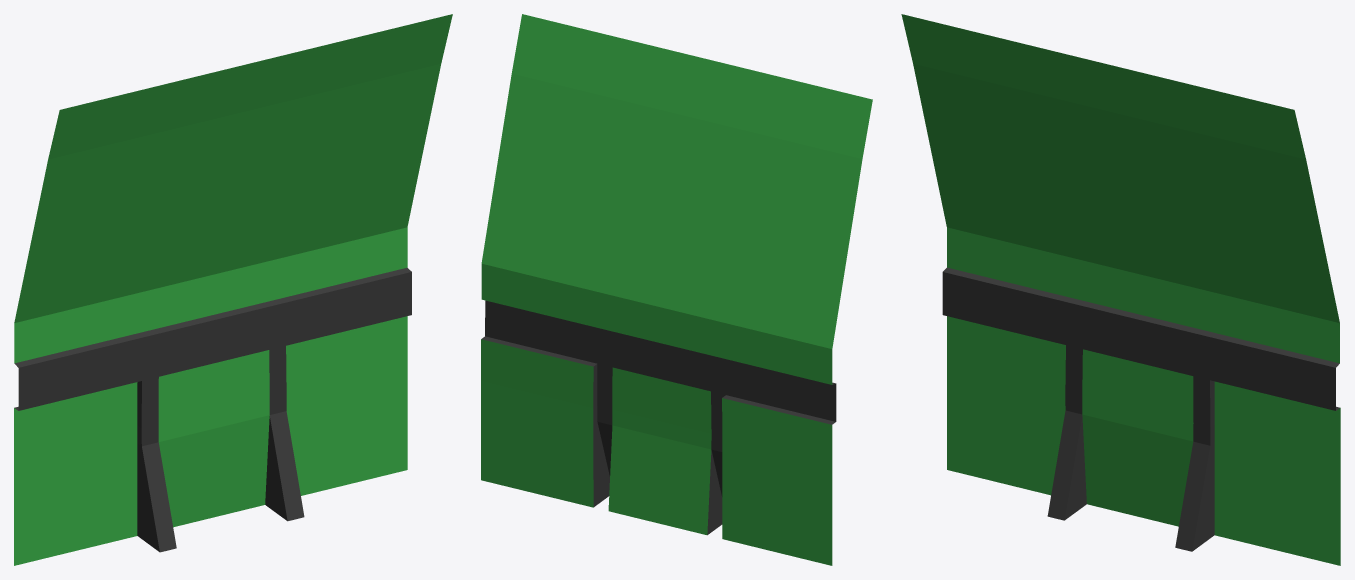
File: wall_hangar.fbx
3 renders of one model, left to right at view 1: azimuth 30°, elevation 25°; view 2: azimuth 150°, elevation 25°; view 3: azimuth 330°, elevation 25°, orthographic. The views are drawn at different scales.
Visible parts, largest first — view 1: Hangar.005; view 2: Hangar.005; view 3: Hangar.005.
Part boxes in pixels (bbox=[...]): Hangar.005: bbox=[14, 14, 452, 565]; Hangar.005: bbox=[481, 14, 872, 565]; Hangar.005: bbox=[901, 14, 1340, 565].
Bounding box in the file's own units: 72.32 × 85.92 × 14.52.
